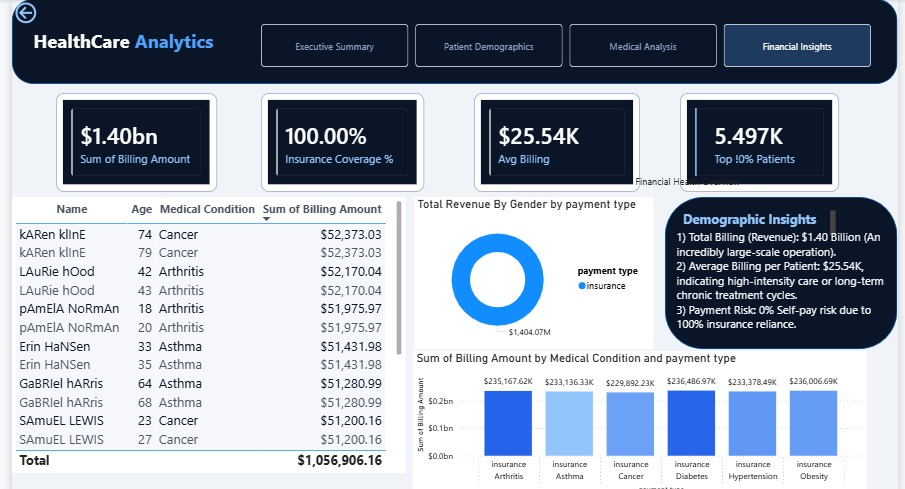

The dashboard page shown, as its layout file describes it:
{"tool":"powerbi","page":{"name":"Financial Insights","canvas":[1280,720],"ordinal":3},"visuals":[{"type":"shape","box":[944.3,285.7,335.7,220],"z":0},{"type":"shape","box":[0,0,1280,122.9],"z":1000},{"type":"textbox","box":[25.7,35.7,310,74.3],"z":2000},{"type":"pageNavigator","box":[360,35.7,885.7,62.9],"z":3000},{"type":"clusteredColumnChart","fields":{"Category":["healthcare_dataset.Medical Condition","healthcare_dataset.payment type"],"Y":["Sum(healthcare_dataset.Billing Amount)"]},"box":[580,508.6,655.7,211.4],"z":4000},{"type":"actionButton","box":[0,0,100,40],"z":5000},{"type":"cardVisual","fields":{"Data":["healthcare_dataset.insurance coverage"]},"box":[360,135.7,235.7,142.9],"z":6000},{"type":"cardVisual","fields":{"Data":["Avg(healthcare_dataset.Billing Amount)"]},"box":[668.6,135.7,240,142.9],"z":7000},{"type":"tableEx","fields":{"Values":["healthcare_dataset.Name","healthcare_dataset.Age","healthcare_dataset.Medical Condition","Sum(healthcare_dataset.Billing Amount)"]},"box":[0,285.7,568.6,398.6],"z":8000},{"type":"donutChart","fields":{"Y":["Sum(healthcare_dataset.Billing Amount)"],"Category":["healthcare_dataset.payment type"]},"box":[581.4,285.7,345.7,220],"z":9000},{"type":"cardVisual","fields":{"Data":["Sum(healthcare_dataset.Billing Amount)"]},"box":[64.3,135.7,232.9,142.9],"z":10000},{"type":"cardVisual","fields":{"Data":["CountNonNull(healthcare_dataset.top 10 percent)"]},"box":[965.7,135.7,230,142.9],"z":11000},{"type":"textbox","box":[965.7,301.4,230,48.6],"z":11000},{"type":"textbox","box":[955.7,328.6,314.3,180],"z":14000},{"type":"textbox","box":[895.7,250,277.1,52.9],"z":14001}]}

Visuals, with their boxes on the page's 1280x720 design canvas (x1, y1, x2, y2). These are canvas units, not pixel positions in the 905x489 screenshot, which may show the page scaled, cropped or inside an application window:
shape: [944,286,1280,506]
shape: [0,0,1280,123]
textbox: [26,36,336,110]
pageNavigator: [360,36,1246,99]
clusteredColumnChart - healthcare_dataset.Medical Condition x healthcare_dataset.payment type: [580,509,1236,720]
actionButton: [0,0,100,40]
cardVisual - healthcare_dataset.insurance coverage: [360,136,596,279]
cardVisual - Avg(healthcare_dataset.Billing Amount): [669,136,909,279]
tableEx - healthcare_dataset.Name x healthcare_dataset.Age: [0,286,569,684]
donutChart - Sum(healthcare_dataset.Billing Amount) x healthcare_dataset.payment type: [581,286,927,506]
cardVisual - Sum(healthcare_dataset.Billing Amount): [64,136,297,279]
cardVisual - CountNonNull(healthcare_dataset.top 10 percent): [966,136,1196,279]
textbox: [966,301,1196,350]
textbox: [956,329,1270,509]
textbox: [896,250,1173,303]
